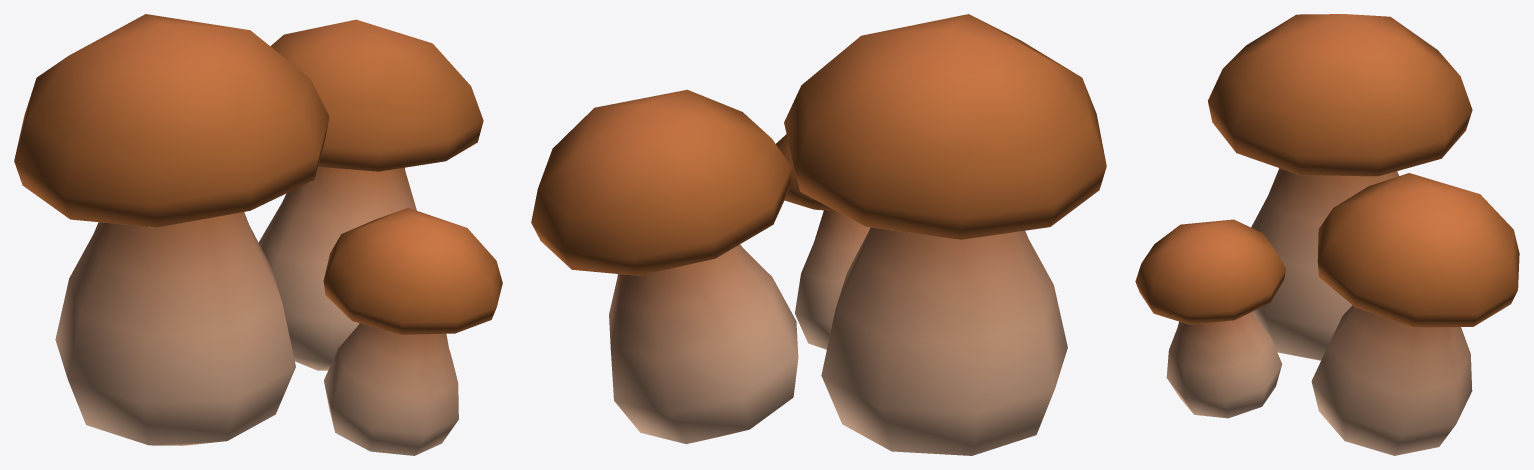
The picture shows the model from 3 angles, left to right: view 1: azimuth 30°, elevation 25°; view 2: azimuth 150°, elevation 25°; view 3: azimuth 270°, elevation 25°; orthographic projection. The views are drawn at different scales.
Parts seen in each view (by area): view 1: submesh_0; view 2: submesh_0; view 3: submesh_0.
Boxes of the visible parts, left/top/right/bottom form: submesh_0: left=14, top=14, right=502, bottom=455; submesh_0: left=531, top=14, right=1106, bottom=455; submesh_0: left=1135, top=14, right=1519, bottom=455.
Size of the model in its own units: 0.3403 by 0.2851 by 0.291.
1 material, 1 textured.
